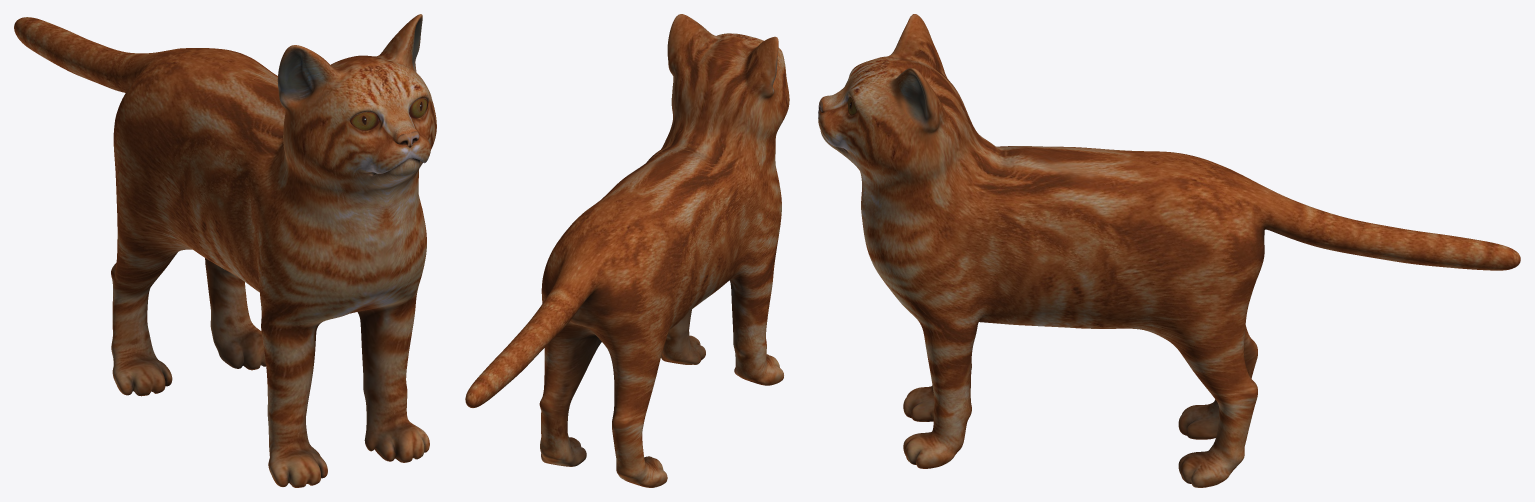
File: gfg_gold_text_stand_24g.glb
3 views of the same model, side by side, from view 1: azimuth 30°, elevation 25°; view 2: azimuth 150°, elevation 25°; view 3: azimuth 270°, elevation 25° (orthographic). The views are drawn at different scales.
Parts seen in each view (by area): view 1: 12221_Cat_v1_l3; view 2: 12221_Cat_v1_l3; view 3: 12221_Cat_v1_l3.
Part boxes in pixels (x1,y1,x2,y2): 12221_Cat_v1_l3: (14,14,436,487); 12221_Cat_v1_l3: (465,14,789,487); 12221_Cat_v1_l3: (818,14,1520,487).
Bounding box in the file's own units: 0.4018 × 1.13 × 1.74.
Materials: 1 (1 with a texture image).
